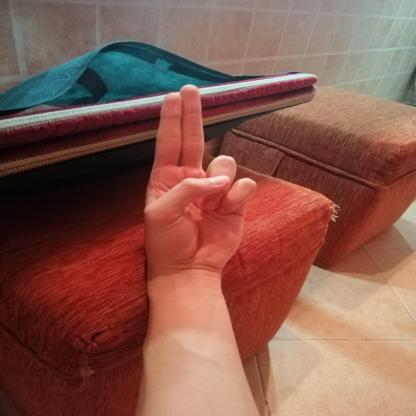TA: (123, 74, 267, 279)
